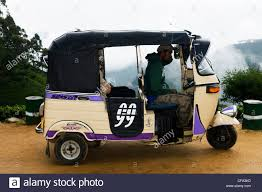tuk tuk: (36, 28, 242, 164)
